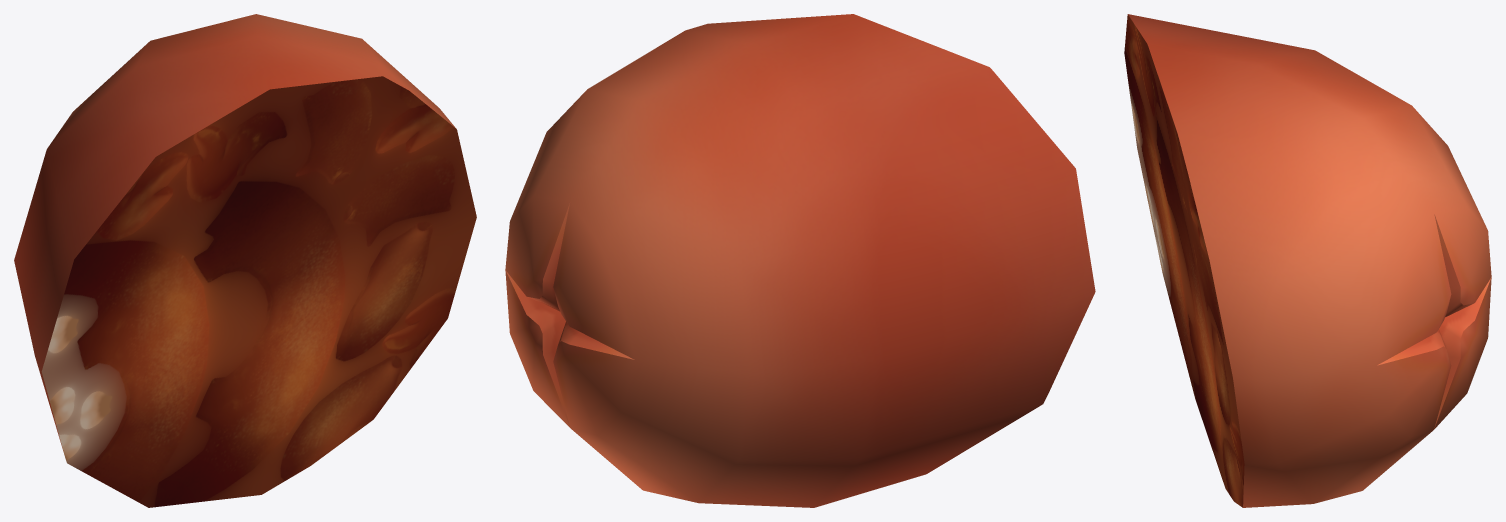
File: Sausage11.fbx
The picture shows the model from 3 angles, left to right: view 1: azimuth 30°, elevation 25°; view 2: azimuth 150°, elevation 25°; view 3: azimuth 270°, elevation 25°; orthographic projection. The views are drawn at different scales.
Parts seen in each view (by area): view 1: Sausage11; view 2: Sausage11; view 3: Sausage11.
Boxes of the visible parts, <box> form: Sausage11: <box>14,14,476,507</box>; Sausage11: <box>505,14,1095,507</box>; Sausage11: <box>1124,14,1491,507</box>.
Bounding box in the file's own units: 0.1395 × 0.1201 × 0.093.
